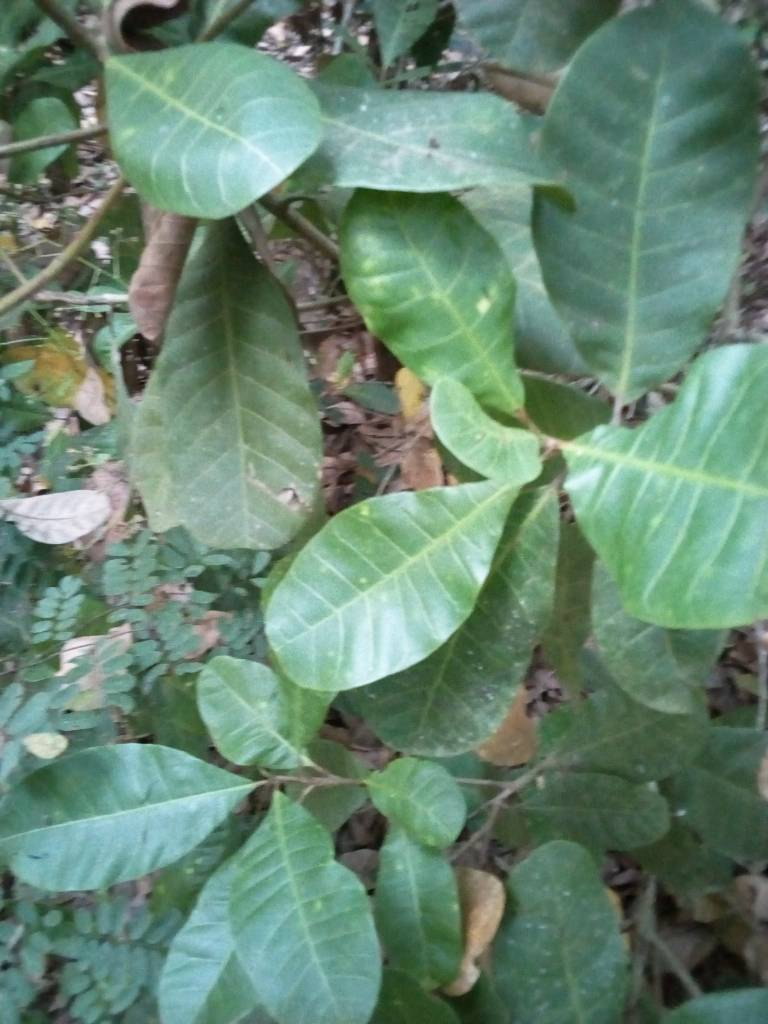Oïdium: (540, 7, 768, 424), (344, 499, 550, 758), (479, 832, 671, 1024)
